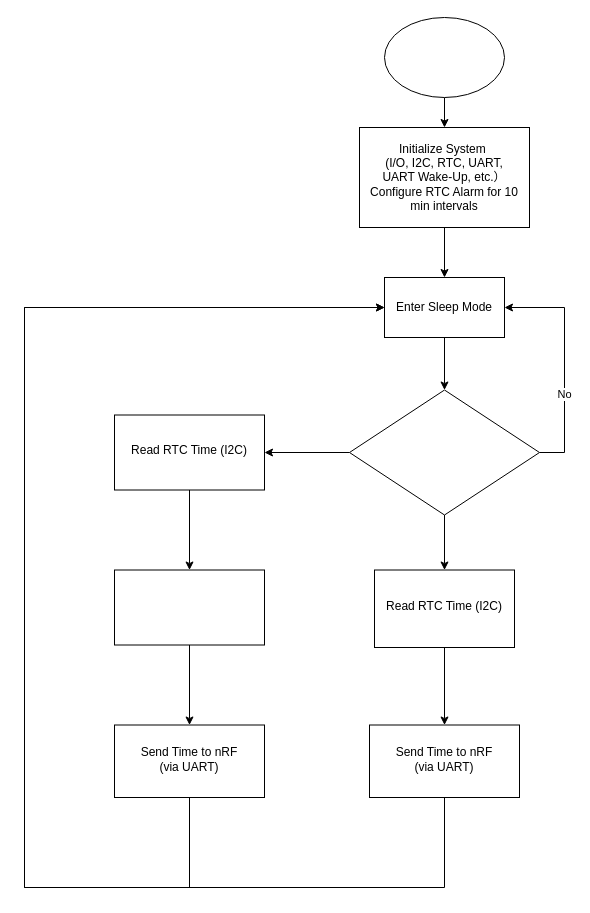
Some shapes in this 590 by 913 pixel diagram are drawn without their labels. Each missing label, with the box of its shape:
Blink LED: (114, 569, 264, 645)
Interrupt? (RTC Alarm or UART wake-up Request?): (348, 389, 540, 515)
Start / Reset: (384, 16, 504, 98)
